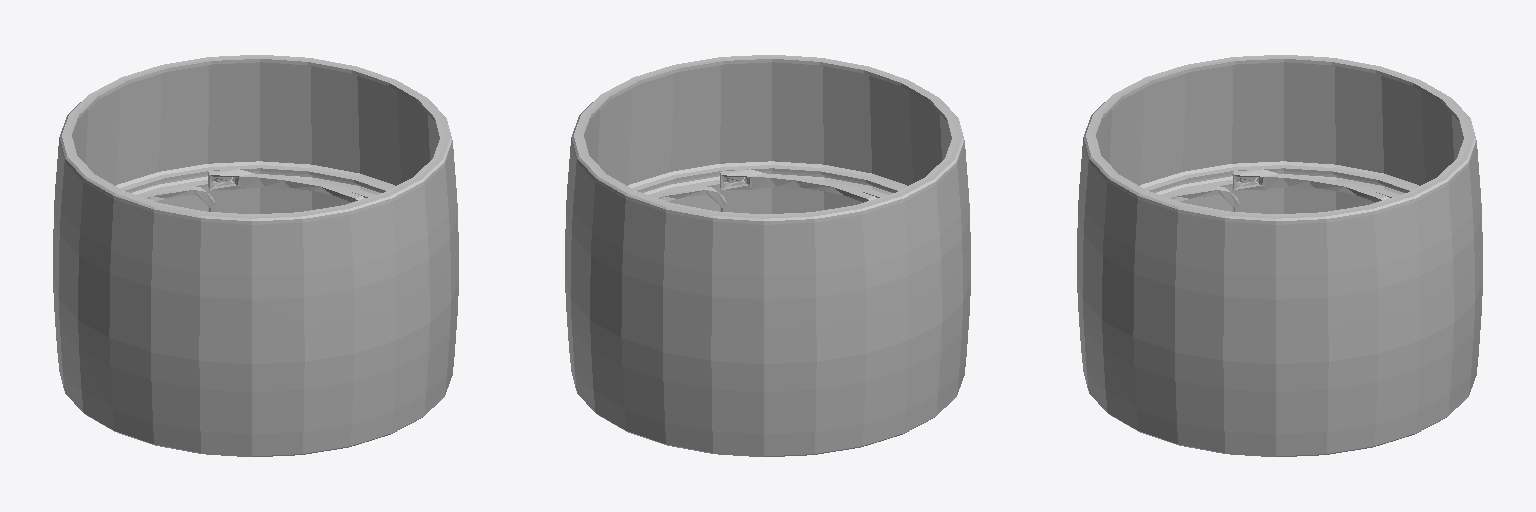
File: Wheel_LeftRear.obj
The picture shows the model from 3 angles: view 1: azimuth 30°, elevation 25°; view 2: azimuth 150°, elevation 25°; view 3: azimuth 270°, elevation 25°; orthographic projection.
Visible parts, largest first — view 1: Wheel_LeftRear.obj; view 2: Wheel_LeftRear.obj; view 3: Wheel_LeftRear.obj.
Part boxes in pixels (left/top/right/bottom): Wheel_LeftRear.obj: left=53, top=55, right=458, bottom=456; Wheel_LeftRear.obj: left=565, top=55, right=970, bottom=456; Wheel_LeftRear.obj: left=1077, top=55, right=1482, bottom=456.
Bounding box in the file's own units: 0.5098 × 0.3306 × 0.5098.